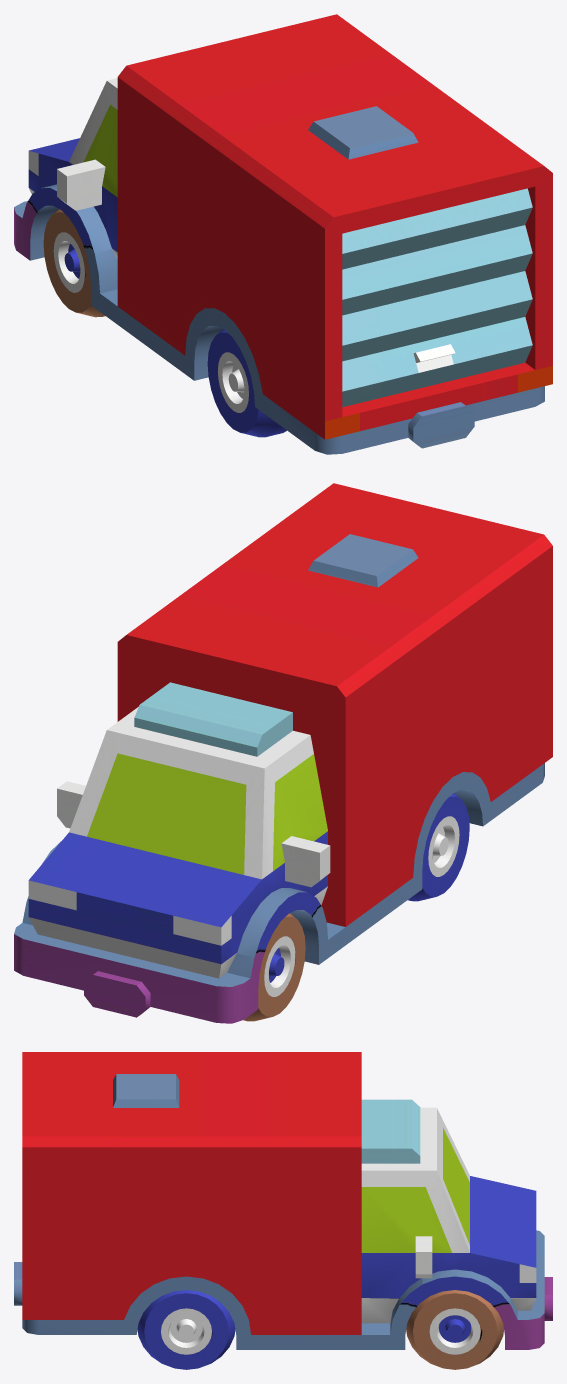
The model's file is truck.fbx.
The picture shows the model from 3 angles, top to bottom: view 1: azimuth 30°, elevation 25°; view 2: azimuth 150°, elevation 25°; view 3: azimuth 270°, elevation 25°; orthographic projection. The views are drawn at different scales.
Visible parts, largest first — view 1: body; view 2: body; view 3: body.
Boxes of the visible parts, x1,y1,x2,y2 form: body: [14, 14, 552, 454]; body: [14, 483, 552, 1023]; body: [14, 1052, 552, 1369].
Bounding box in the file's own units: 6.36 × 7 × 13.78.
